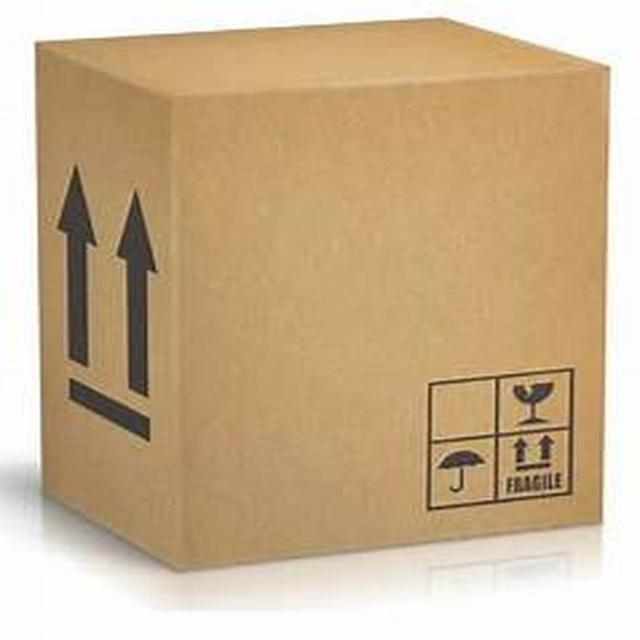box: (22, 10, 619, 601)
